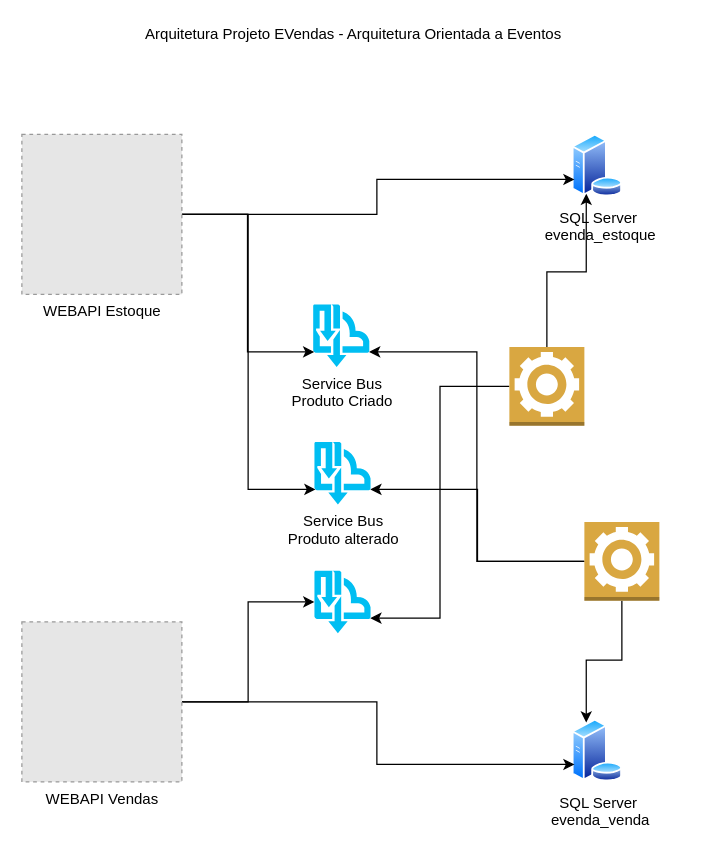
This 718x851 diagram has some shape labels left out. Grey dashed boxes stand in for pictures. Each missing label, with the box of its shape:
Service Bus Produto Vendido: (314, 570, 370, 632)
Worker Service Estoque: (508, 346, 584, 426)
Worker Service Venda: (583, 521, 659, 601)
